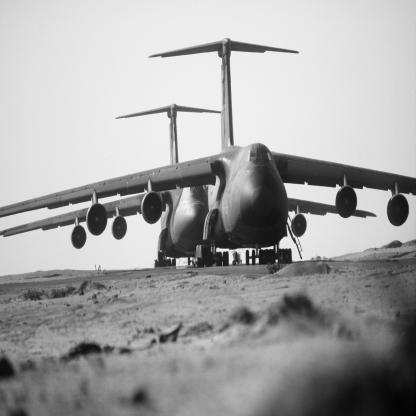C5: (1, 38, 416, 269), (2, 105, 379, 270)
